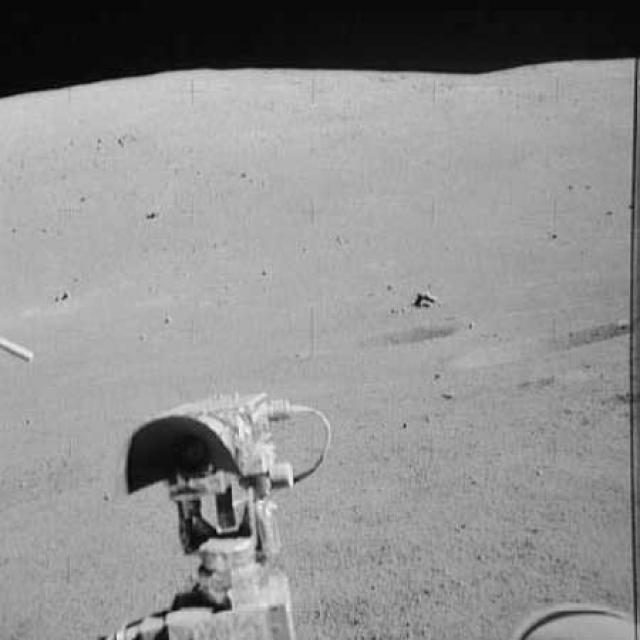artifact: (92, 371, 353, 639), (0, 332, 36, 370)
crater: (477, 320, 632, 366), (346, 320, 464, 354)
rock: (400, 281, 441, 309)
